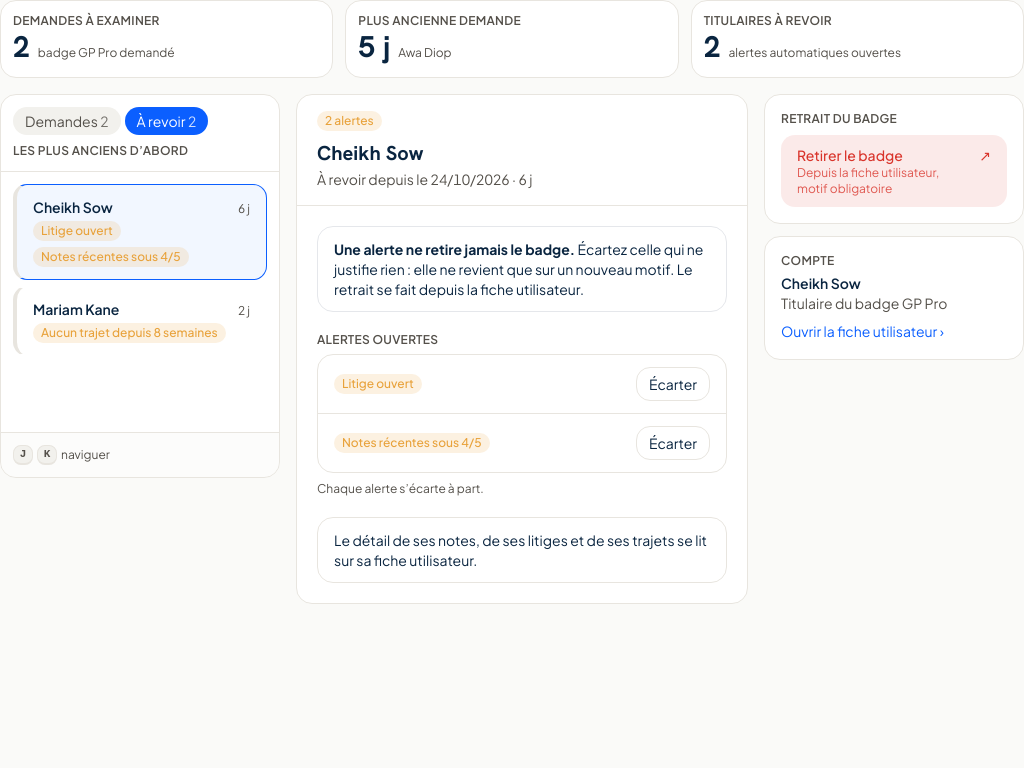
Scenario: /gp-pro › écarter une alerte relit la file ; la dernière alerte passe au titulaire suivant
The width and height of the screenshot is (1024, 768).
Click the button with test id "gp-pro-dismiss-f1": (673, 384) [636,367,710,401]
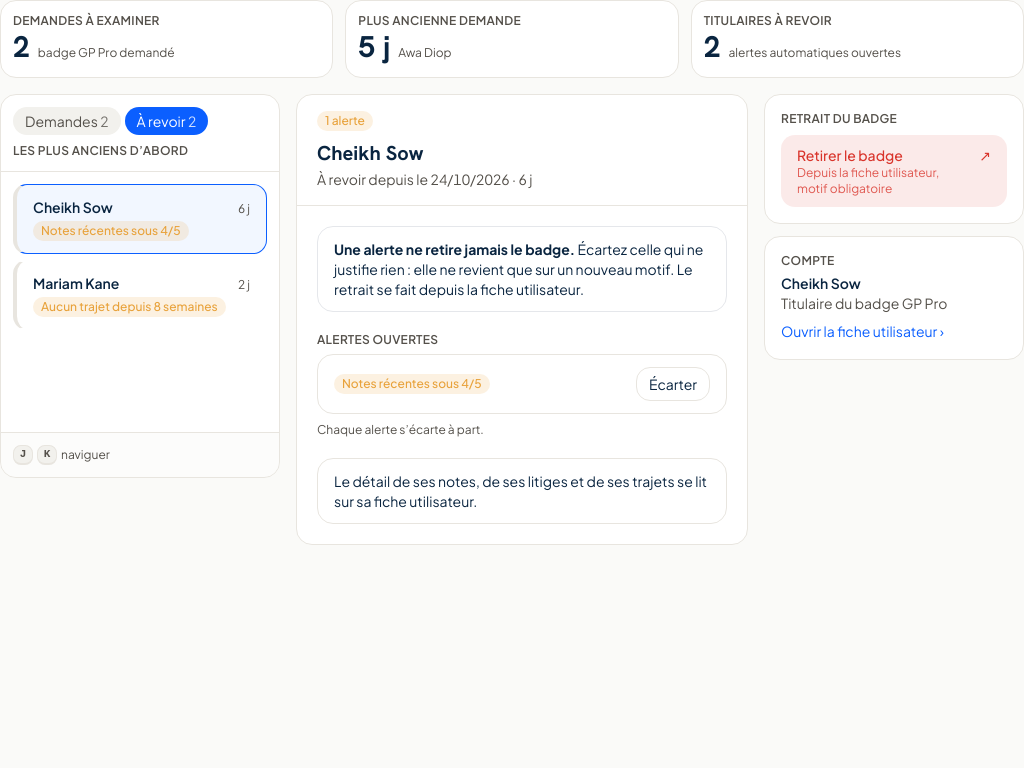
Now the text with test id "gp-pro-review-count" reads "1 alerte", box [325,113,365,128]
Click the button with test id "gp-pro-dismiss-f2": (673, 384) [636,367,710,401]
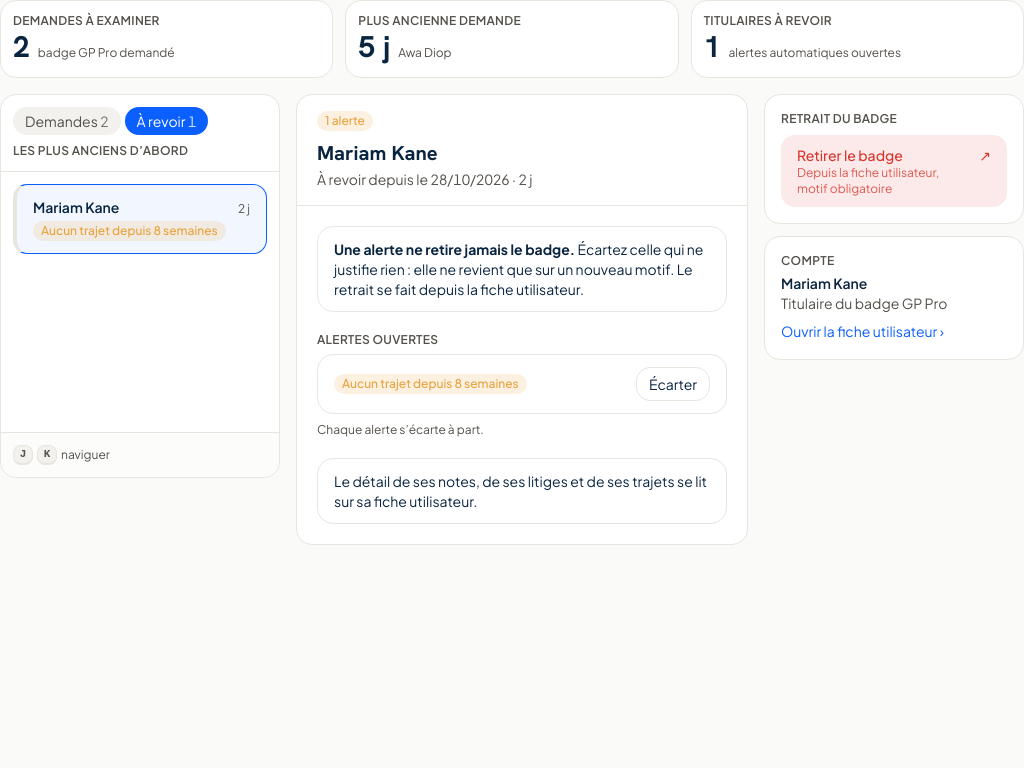
Now the heading with test id "gp-pro-review-title" reads "Mariam Kane", box [317,140,438,166]
